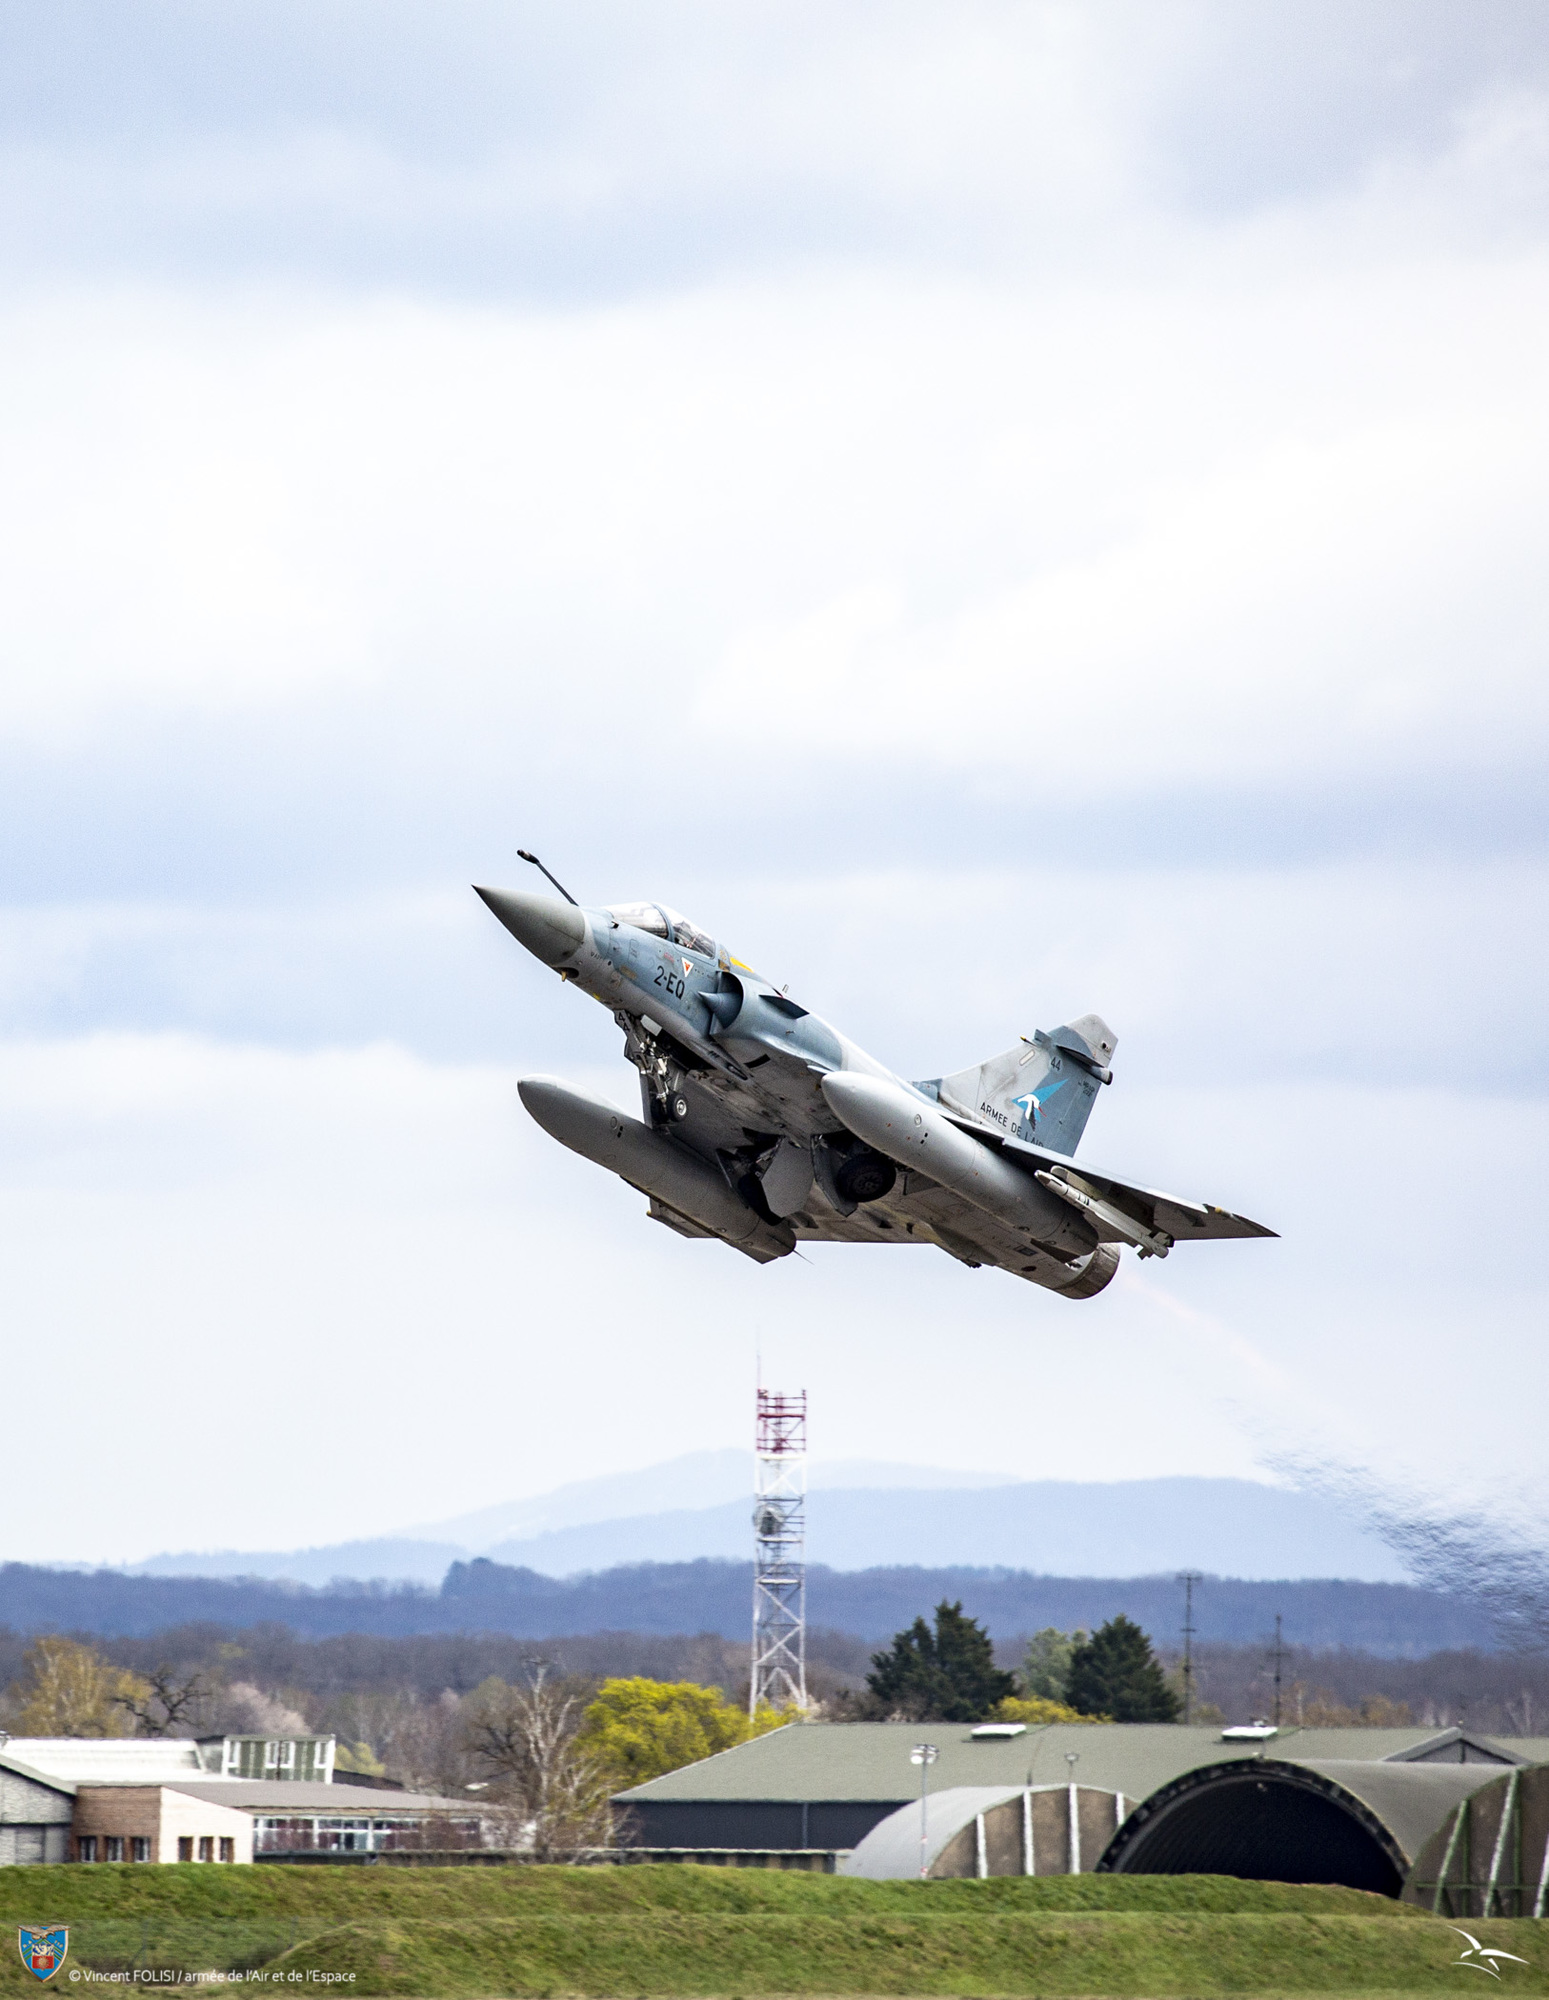Mirage2000: (469, 847, 1283, 1300)
